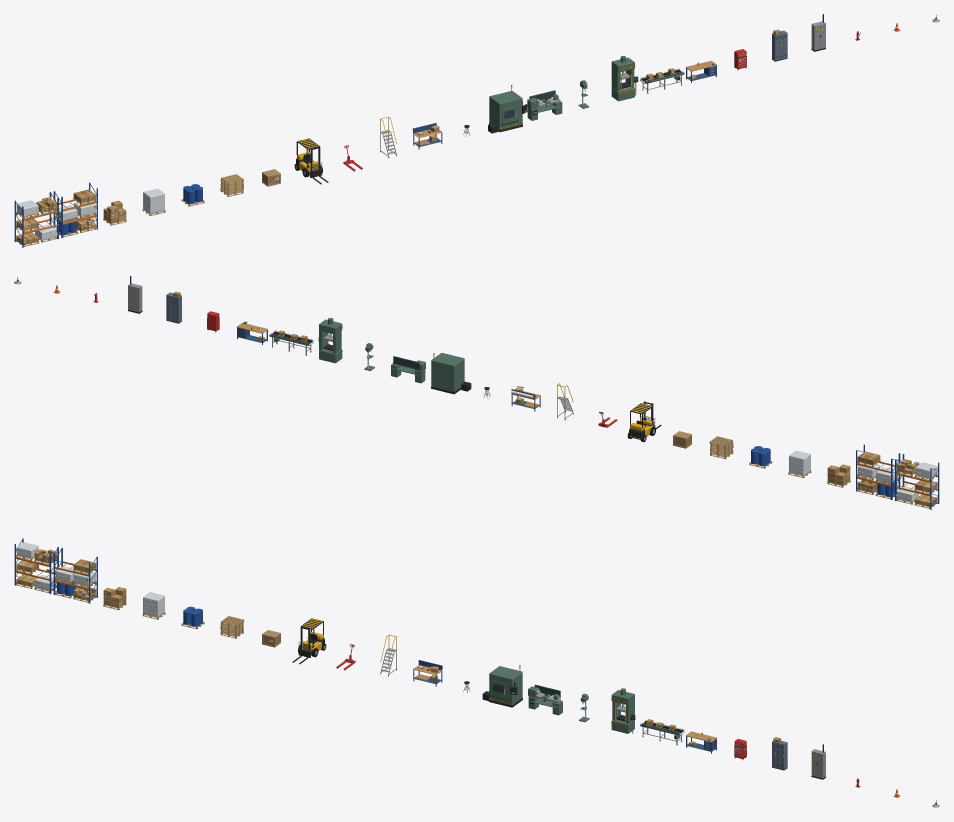
Rendered from Industrial.glb.
3 renders of one model, top to bottom at view 1: azimuth 30°, elevation 25°; view 2: azimuth 150°, elevation 25°; view 3: azimuth 330°, elevation 25°, orthographic.
Visible parts, largest first — view 1: Racking, Racking2, Mill, Press, Forklift, Lathe, PalletWrapped, PackingBench, Conveyor; view 2: Racking, Racking2, Mill, Press, Forklift, Lathe, PalletWrapped, Conveyor; view 3: Racking, Racking2, Mill, Press, Forklift, Lathe.
Part boxes in pixels (left/top/right/bottom): Racking: left=14, top=192, right=59, bottom=247; Racking2: left=53, top=182, right=98, bottom=238; Mill: left=488, top=85, right=527, bottom=133; Press: left=611, top=56, right=638, bottom=101; Forklift: left=294, top=138, right=328, bottom=184; Lathe: left=527, top=90, right=562, bottom=120; PalletWrapped: left=142, top=188, right=165, bottom=216; PackingBench: left=412, top=123, right=442, bottom=149; Conveyor: left=640, top=68, right=684, bottom=93; Racking: left=894, top=454, right=939, bottom=509; Racking2: left=855, top=444, right=900, bottom=500; Mill: left=431, top=353, right=471, bottom=394; Press: left=318, top=318, right=342, bottom=363; Forklift: left=627, top=401, right=661, bottom=442; Lathe: left=391, top=356, right=425, bottom=383; PalletWrapped: left=788, top=450, right=811, bottom=478; Conveyor: left=269, top=330, right=313, bottom=355; Racking: left=14, top=538, right=58, bottom=593; Racking2: left=53, top=548, right=98, bottom=603; Mill: left=482, top=665, right=522, bottom=707; Press: left=611, top=688, right=635, bottom=733; Forklift: left=292, top=618, right=326, bottom=664; Lathe: left=528, top=684, right=562, bottom=715.
Size of the model in its own units: 353 by 15.17 by 15.07.
